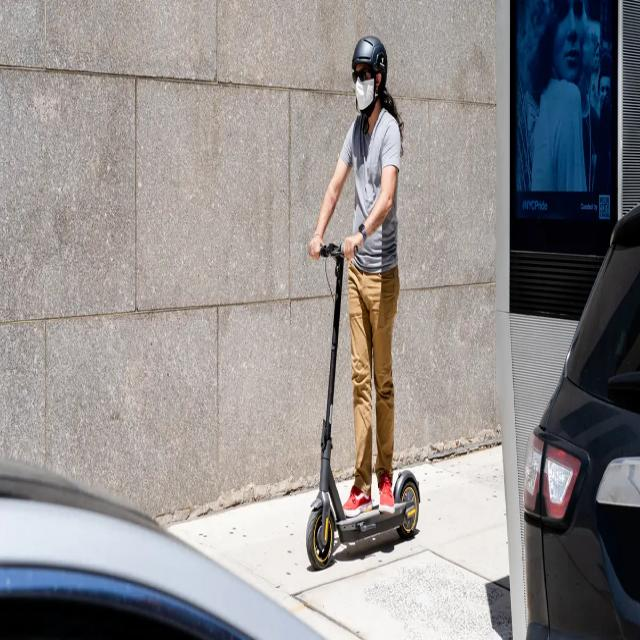helmet: (290, 31, 424, 573)
